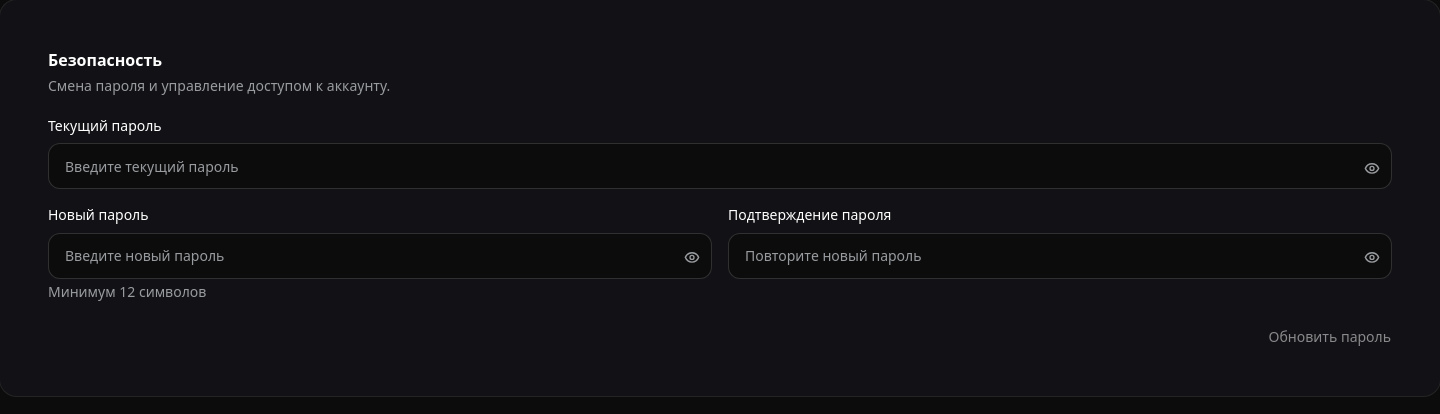
ChangePasswordSection › успешно отправляет данные и показывает toast
Type "OldPassword123!" into the password field with placeholder "Введите текущий пароль" at {"x": 720, "y": 166}, box x1=48 y1=143 x2=1392 y2=189
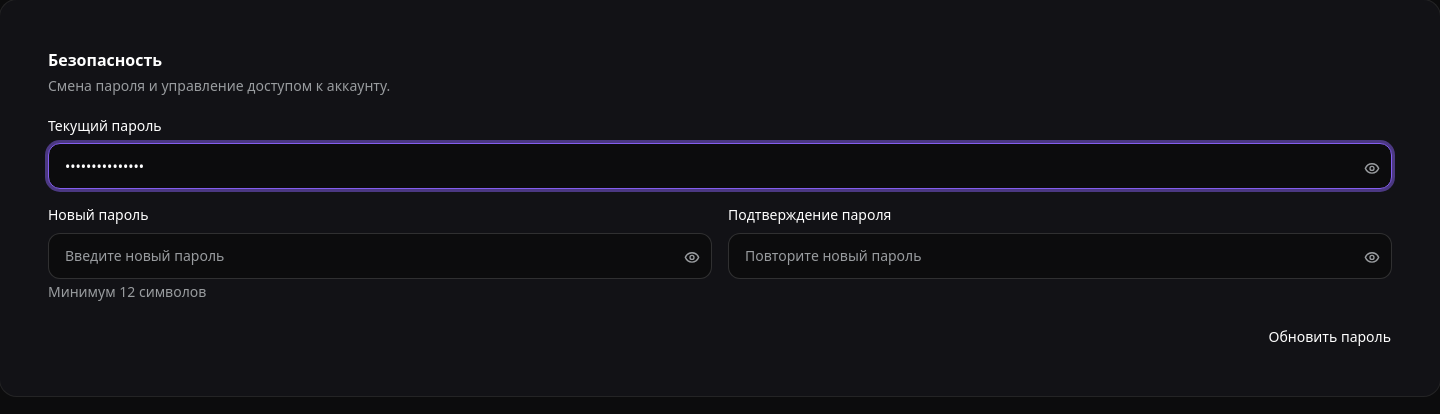
Type "NewSecurePassword123!" into the password field with placeholder "Введите новый пароль" at {"x": 380, "y": 256}, box x1=48 y1=232 x2=712 y2=278
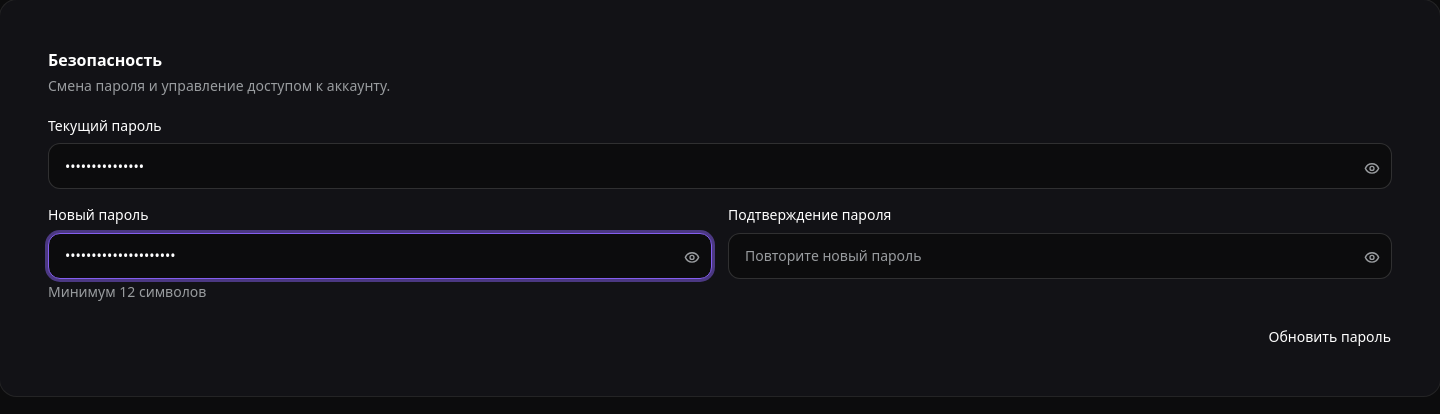
Type "NewSecurePassword123!" into the password field with placeholder "Повторите новый пароль" at {"x": 1060, "y": 256}, box x1=728 y1=232 x2=1392 y2=278
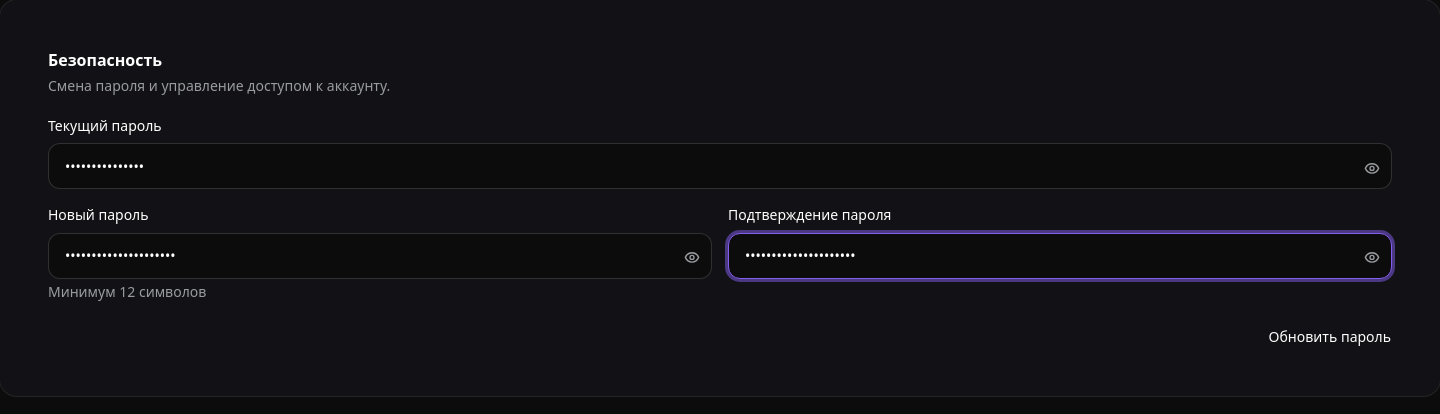
Click the button "Обновить пароль" at {"x": 1330, "y": 336}, box x1=1268 y1=326 x2=1392 y2=348
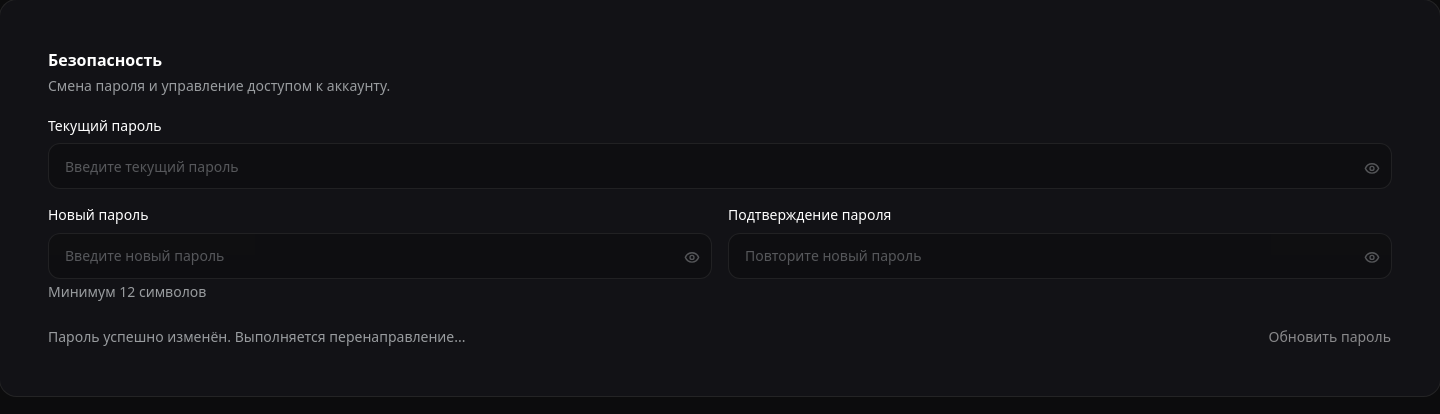
expect the text "Пароль успешно изменён. Выполняется перенаправление..." is shown: met, box x1=48 y1=326 x2=466 y2=346
